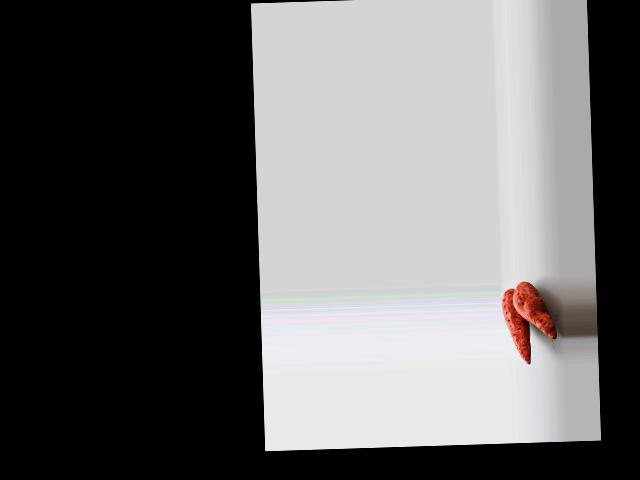sweet_potato: (502, 288, 531, 360)
